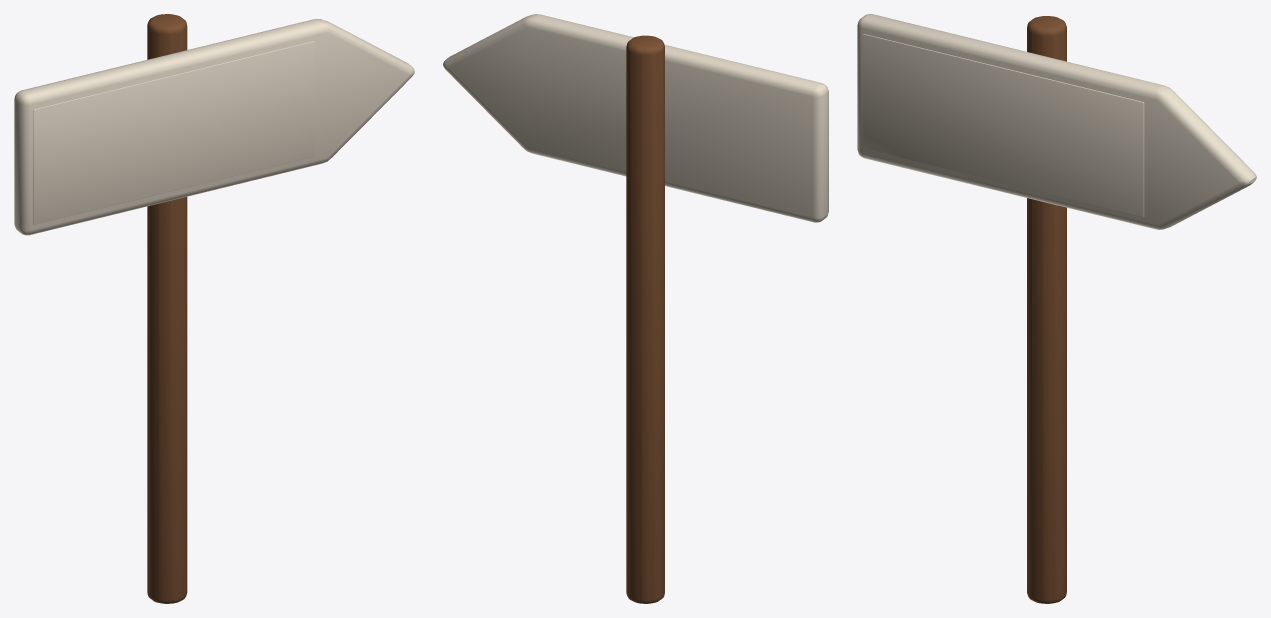
Rendered from placa_seta.glb.
3 renders of one model, left to right at view 1: azimuth 30°, elevation 25°; view 2: azimuth 150°, elevation 25°; view 3: azimuth 330°, elevation 25°, orthographic. The views are drawn at different scales.
Visible parts, largest first — view 1: placa_seta_face, placa_seta_tabua, Cylinder; view 2: placa_seta_tabua, Cylinder; view 3: placa_seta_face, placa_seta_tabua, Cylinder.
Part boxes in pixels (box(x1,y1,x2,y2)): placa_seta_face: box(33, 41, 314, 224); placa_seta_tabua: box(14, 19, 414, 235); Cylinder: box(147, 14, 187, 603); placa_seta_tabua: box(443, 14, 828, 222); Cylinder: box(626, 35, 664, 603); placa_seta_face: box(863, 34, 1144, 217); placa_seta_tabua: box(857, 14, 1256, 229); Cylinder: box(1027, 16, 1066, 603).
Size of the model in its own units: 1.29 by 1.8 by 0.2002.
